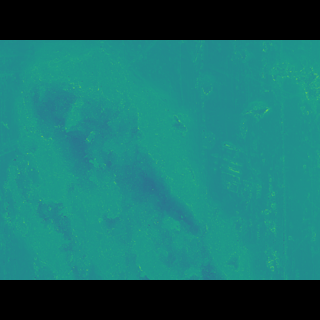Loch: (0, 73, 247, 250)
